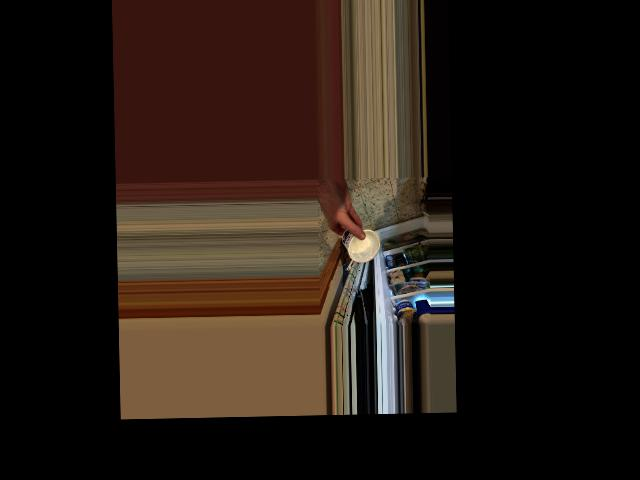cotage: (339, 226, 380, 265)
